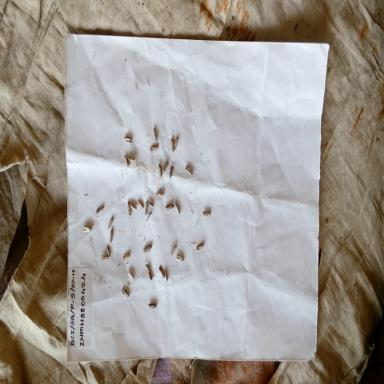pbw: (142, 242, 153, 255), (121, 284, 131, 298), (121, 250, 132, 262), (194, 241, 205, 253), (157, 263, 165, 279), (184, 164, 194, 176), (161, 159, 169, 174), (170, 242, 178, 256), (144, 262, 152, 276), (126, 200, 133, 216), (175, 253, 186, 263), (164, 202, 175, 212), (128, 201, 138, 211), (146, 197, 156, 207), (155, 188, 165, 198), (107, 216, 114, 230), (138, 198, 146, 210), (146, 268, 154, 280), (163, 268, 168, 286), (101, 252, 110, 262), (124, 153, 130, 168), (158, 162, 163, 179), (105, 246, 112, 258), (174, 202, 180, 216), (168, 165, 174, 179), (173, 136, 179, 150), (148, 300, 157, 309), (109, 228, 114, 244), (170, 137, 175, 153), (95, 206, 105, 214), (144, 200, 149, 216), (202, 209, 212, 217), (127, 270, 134, 281), (153, 127, 158, 142), (82, 225, 91, 233), (124, 135, 133, 143), (146, 210, 152, 222), (150, 143, 158, 152), (127, 154, 136, 162)
